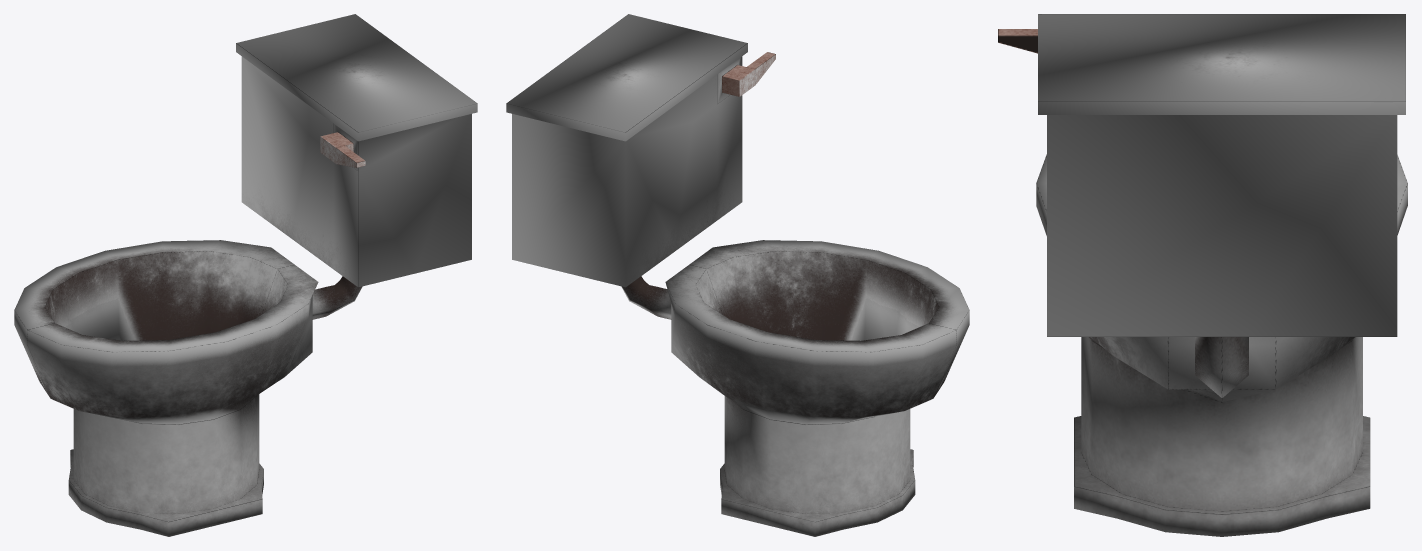
The model's file is Toilet_Main.glb.
3 renders of one model, left to right at view 1: azimuth 30°, elevation 25°; view 2: azimuth 150°, elevation 25°; view 3: azimuth 270°, elevation 25°, orthographic. The views are drawn at different scales.
Visible parts, largest first — view 1: Toilet; view 2: Toilet; view 3: Toilet.
Part boxes in pixels (<box>): Toilet: <box>14,14,477,536</box>; Toilet: <box>506,14,969,536</box>; Toilet: <box>998,14,1407,536</box>.
Size of the model in its own units: 1.37 by 1.24 by 0.8296.
1 material, 1 textured.
